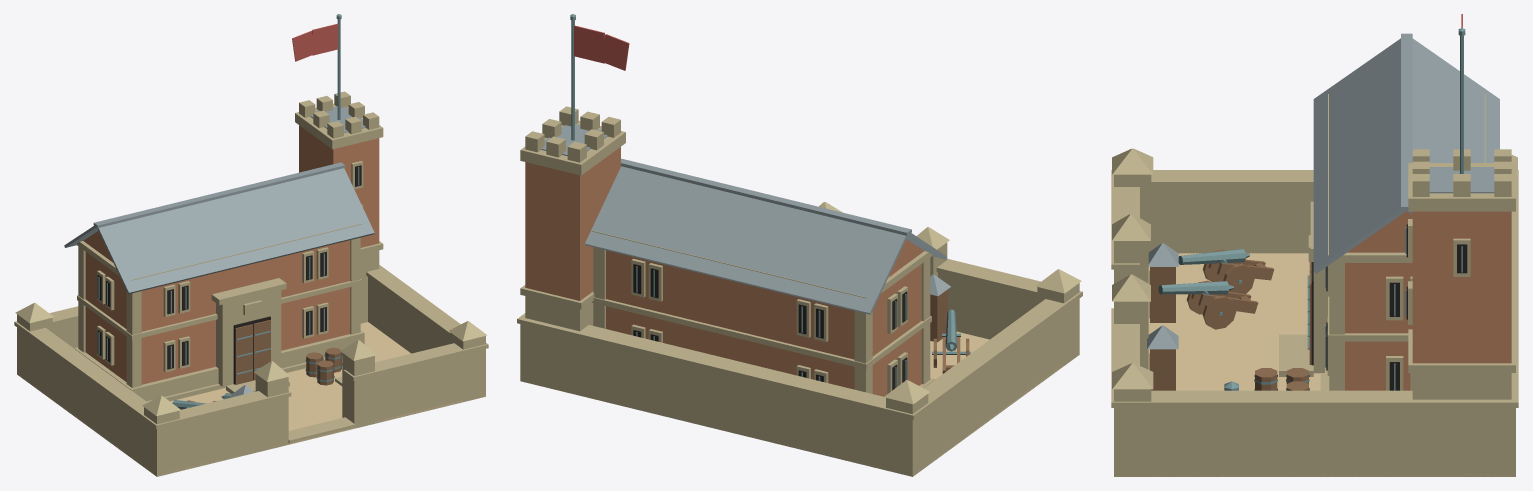
Rendered from era2-armory-C9koDTWh.glb.
The picture shows the model from 3 angles, left to right: view 1: azimuth 30°, elevation 25°; view 2: azimuth 150°, elevation 25°; view 3: azimuth 270°, elevation 25°; orthographic projection. The views are drawn at different scales.
Visible parts, largest first — view 1: Armory_Stonework, Armory_Roof, Armory_Magazine, Armory_Yard, Armory_Timber, Armory_Openings, Armory_Ironwork, Armory_Flag; view 2: Armory_Stonework, Armory_Magazine, Armory_Roof, Armory_Flag, Armory_Openings, Armory_Ironwork, Armory_Timber, Armory_Yard; view 3: Armory_Stonework, Armory_Roof, Armory_Magazine, Armory_Yard, Armory_Timber, Armory_Ironwork, Armory_Openings.
Boxes of the visible parts, x1,y1,x2,y2 form: Armory_Stonework: (14,91,488,476); Armory_Roof: (64,106,374,396); Armory_Magazine: (83,125,379,384); Armory_Yard: (17,322,485,475); Armory_Timber: (187,320,341,402); Armory_Openings: (97,165,361,384); Armory_Ironwork: (98,14,359,409); Armory_Flag: (292,23,338,61); Armory_Stonework: (517,106,1082,476); Armory_Magazine: (525,147,923,396); Armory_Roof: (541,124,950,314); Armory_Flag: (574,25,629,70); Armory_Openings: (633,264,907,390); Armory_Ironwork: (570,14,970,388); Armory_Timber: (930,289,969,373); Armory_Yard: (527,331,1063,473); Armory_Stonework: (1111,94,1518,476); Armory_Roof: (1147,33,1499,349); Armory_Magazine: (1345,211,1511,390); Armory_Yard: (1117,253,1514,476); Armory_Timber: (1150,249,1311,390); Armory_Ironwork: (1158,28,1465,390); Armory_Openings: (1149,224,1467,390).
Size of the model in its own units: 19.2 by 16.58 by 14.2.
